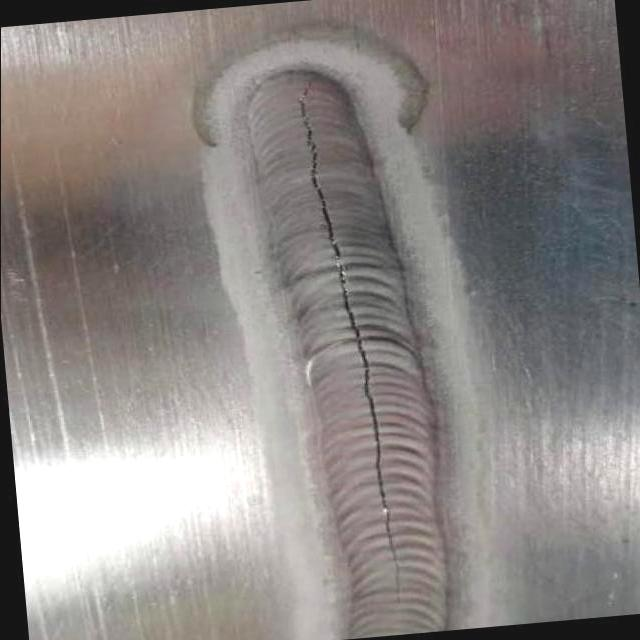defect: (292, 73, 400, 606)
